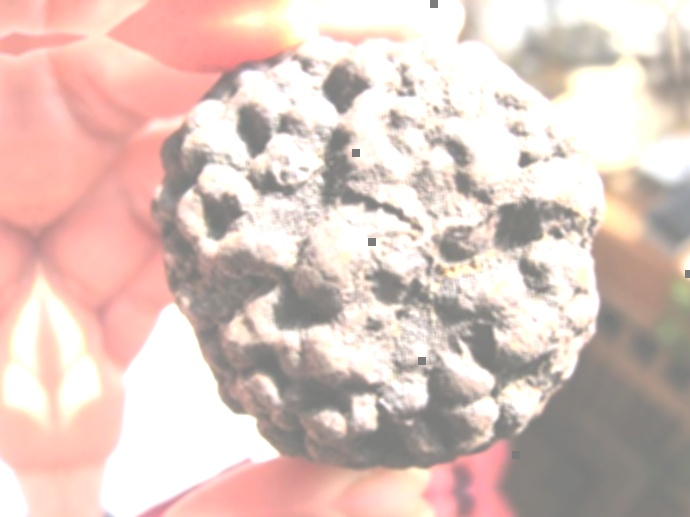halobolite: (135, 14, 633, 494)
